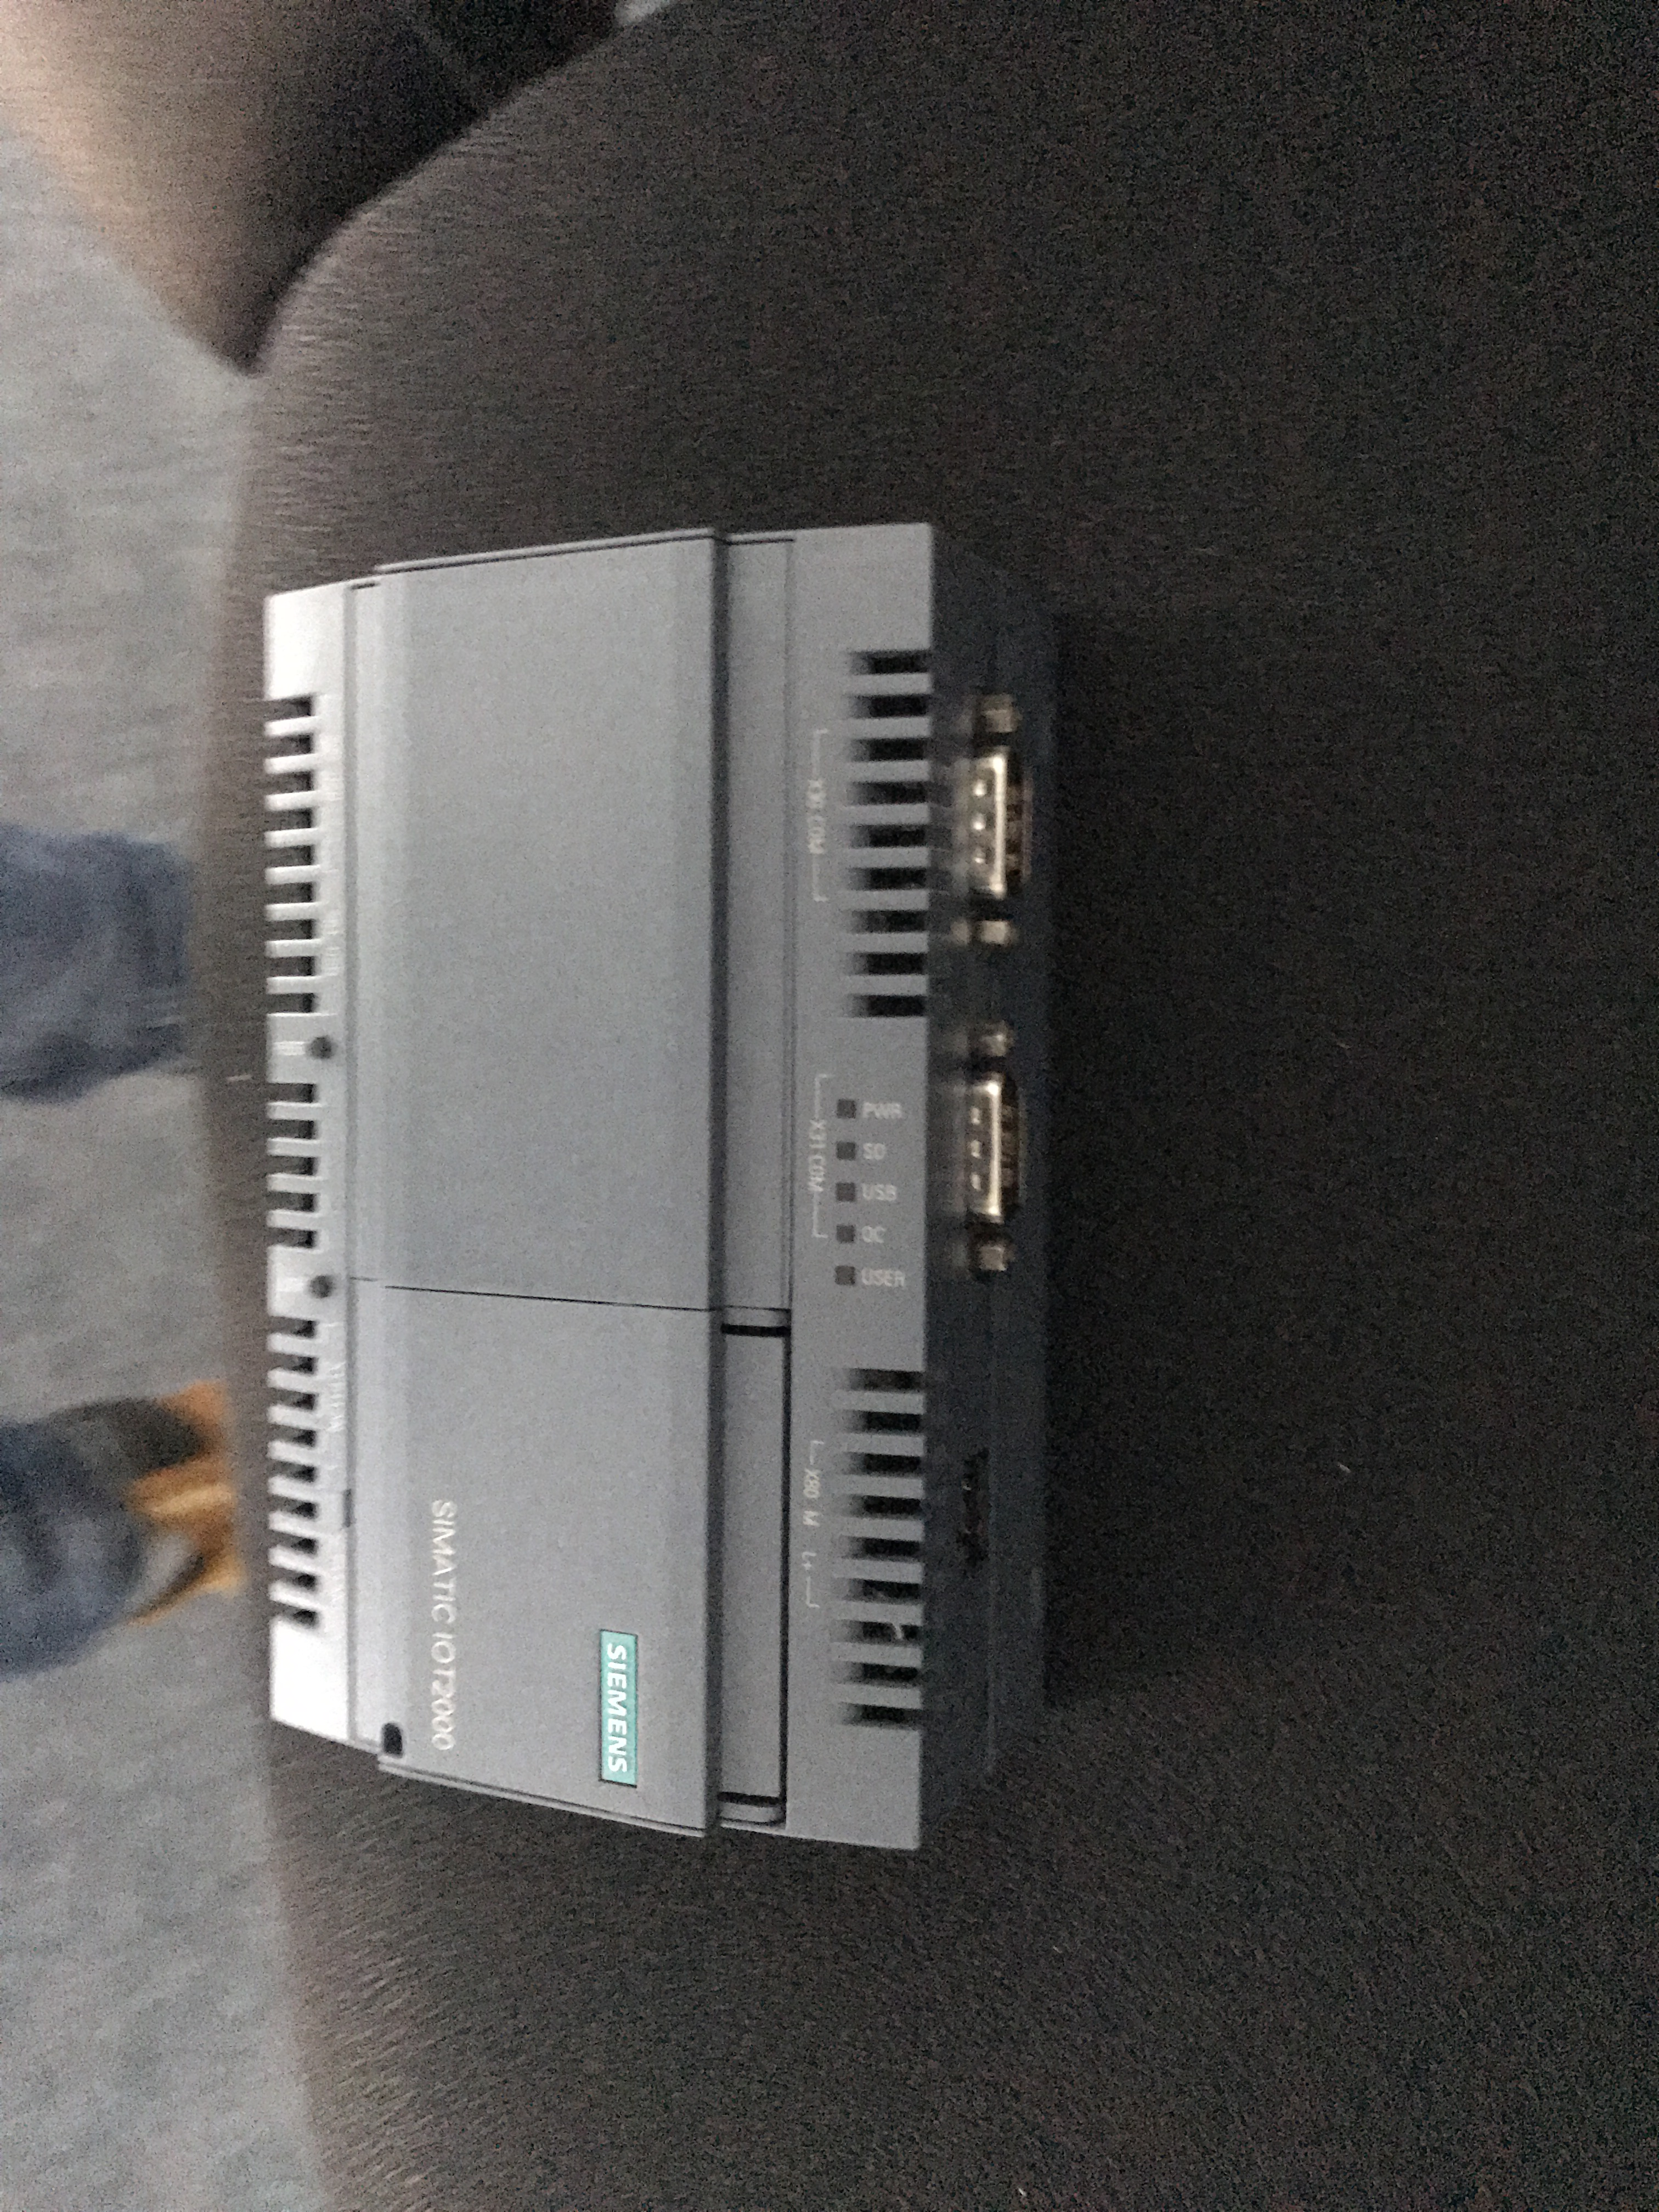device: (263, 521, 1056, 1853)
